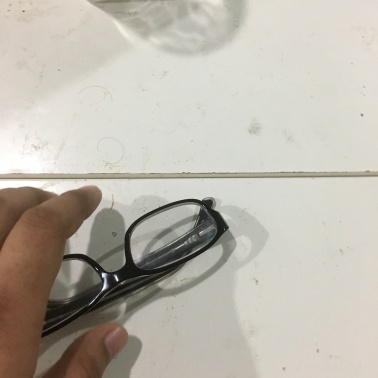glasses: (13, 212, 236, 311)
